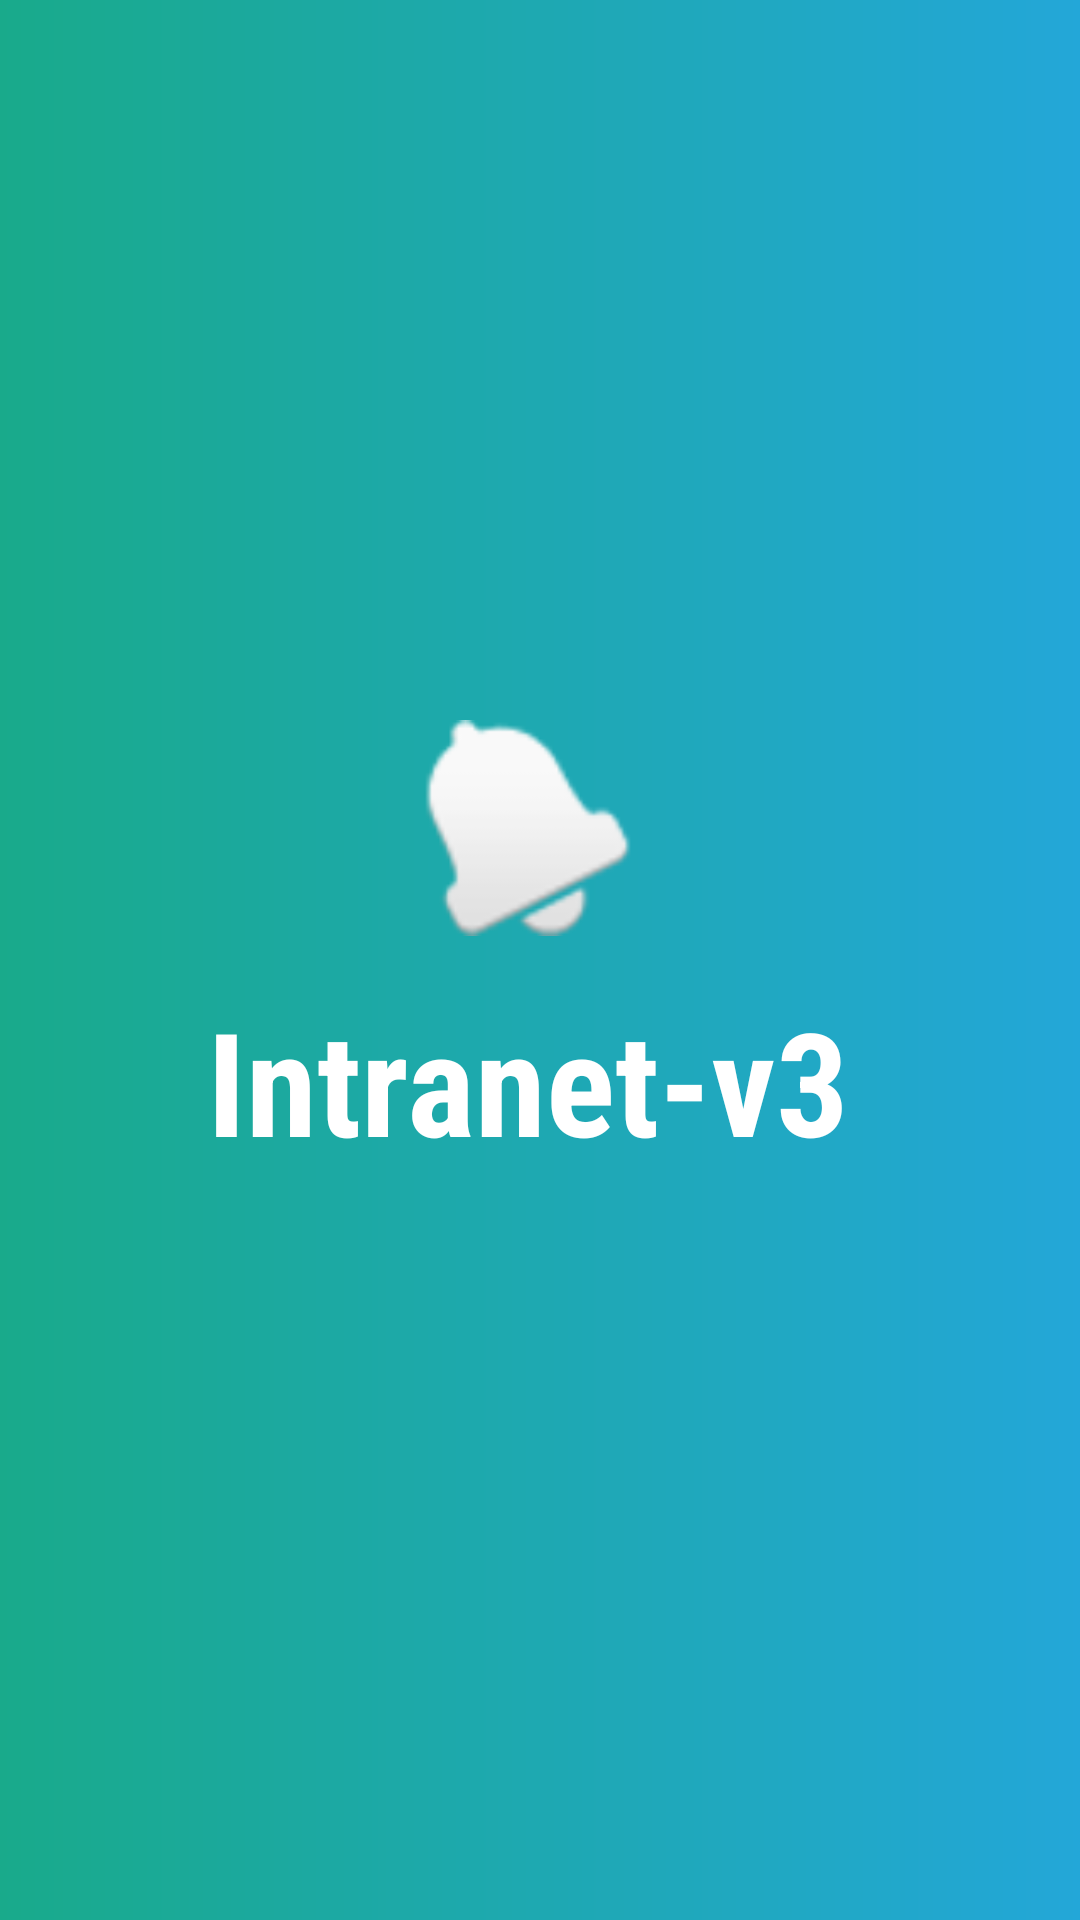

Where icons sit on this 1080*1920 app screen, as box=[x1, y1, x2, y2]:
popup reminder: box=[426, 720, 630, 936]
